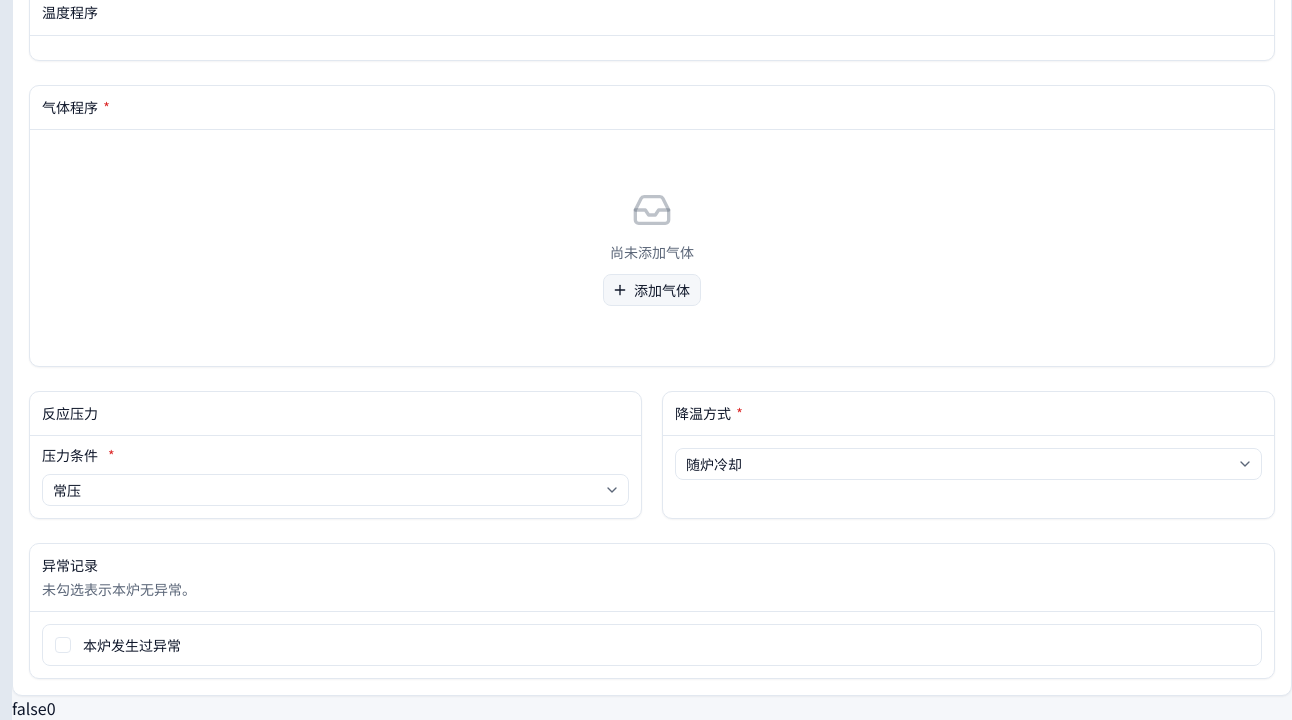
Scenario: simple growth preparation editing › 用勾选框记录本炉异常并同步异常事件
The image size is (1292, 720).
(page scrolled)
What coordinates should you click on to do the following:
click the checkbox named "本炉发生过异常"
I would click on:
 (63, 645)
Its box is [55,637,71,653].
(page scrolled)
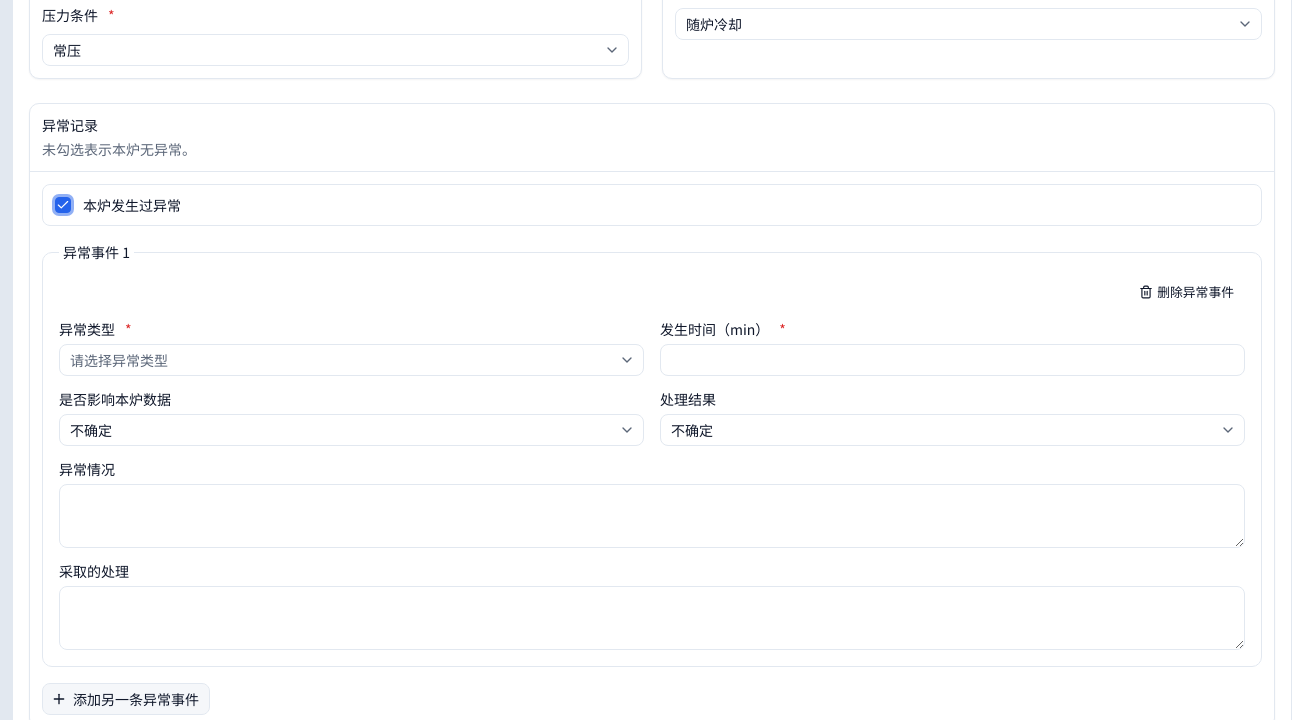
Check: the checkbox named "本炉发生过异常" is checked, box [55,197,71,213]
What coordinates should you click on to do the following:
click the dropdown labelled "异常类型"
I would click on:
 (119, 360)
Its box is [59,344,644,376].
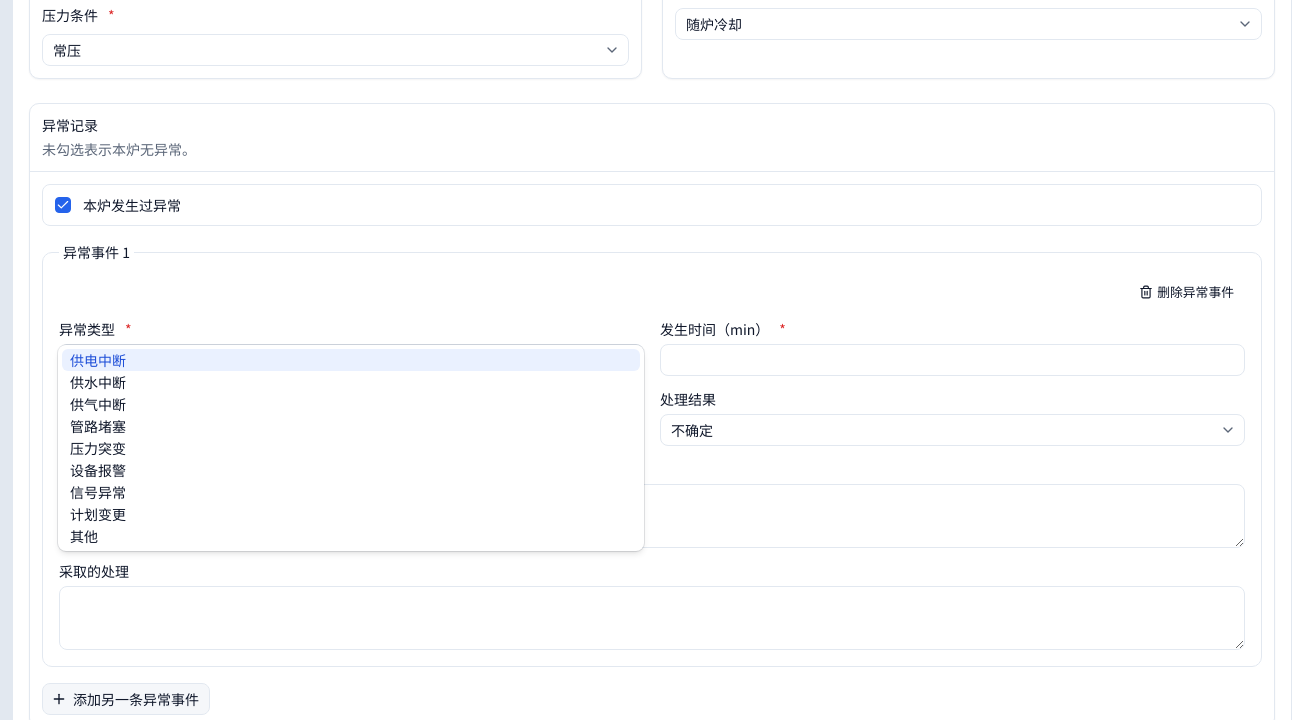
What coordinates should you click on to do the following:
click the option "计划变更"
I would click on:
 (98, 514)
Its box is [70,504,126,524].
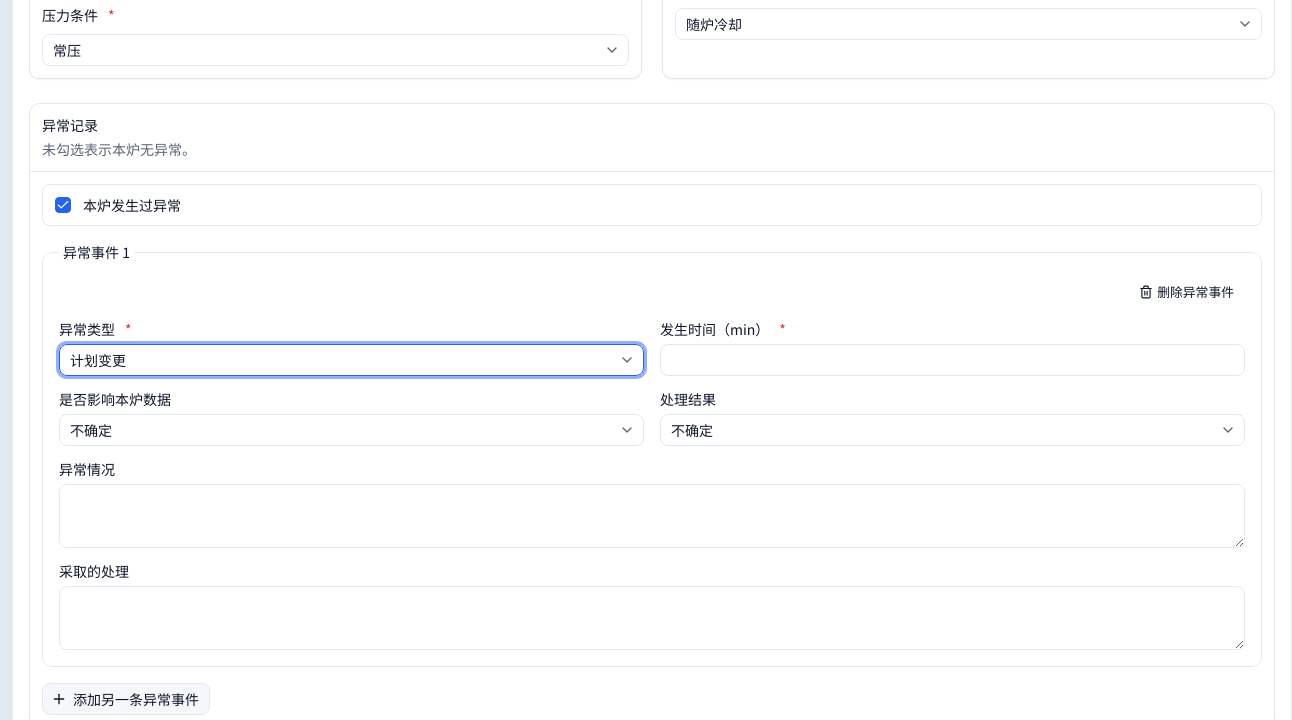
Check: the text "采取的处理" is shown, box [59,561,129,581]
Check: the text "处理结果" is shown, box [660,389,716,409]
What coordinates should you click on to do the following:
click the checkbox named "本炉发生过异常"
I would click on:
 (63, 205)
Its box is [55,197,71,213].
(page scrolled)
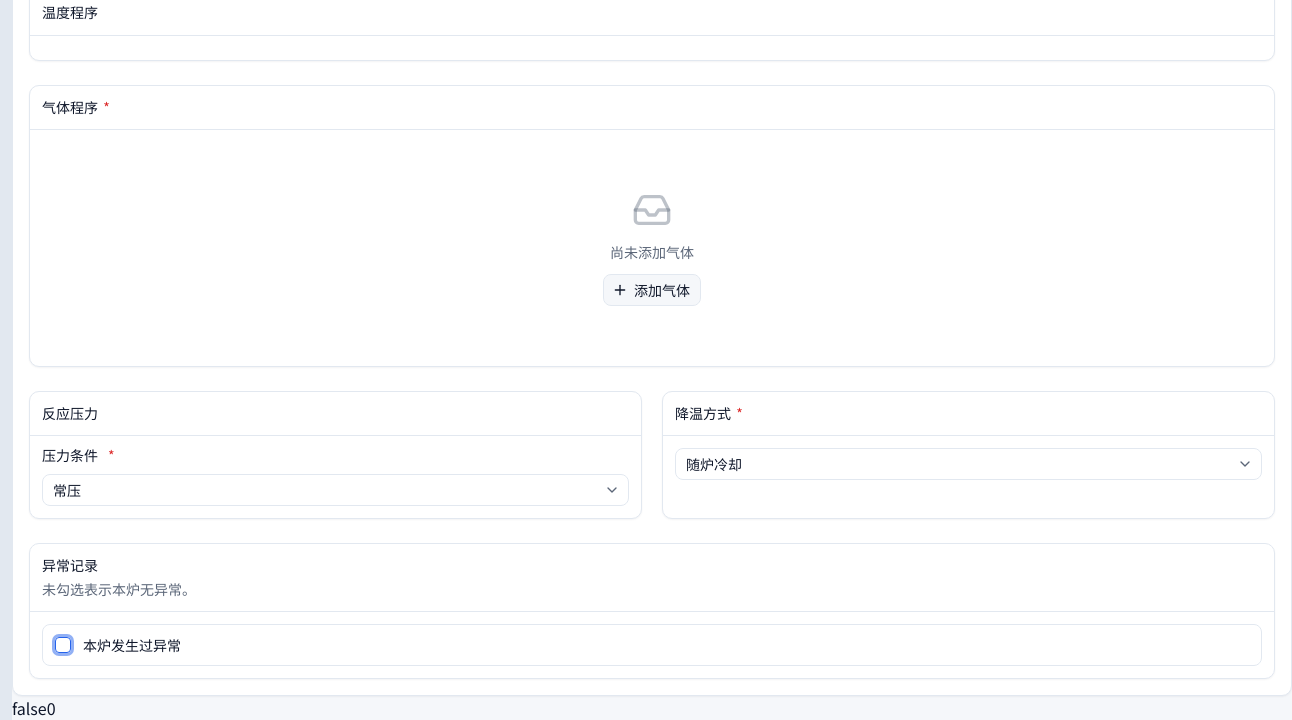
Check: the text with test id "anomaly-state" reads "false", box [12,696,47,719]
Check: the text with test id "anomaly-count" reads "0", box [47,696,56,719]
